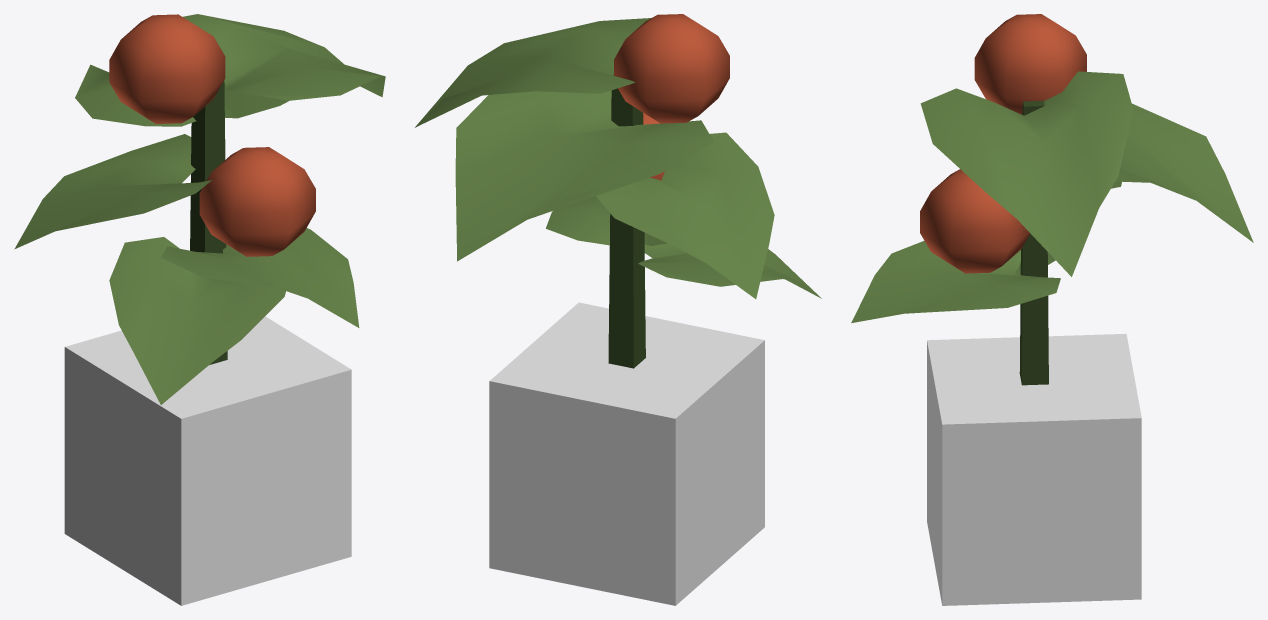
Rendered from plant3.fbx.
The picture shows the model from 3 angles, left to right: view 1: azimuth 30°, elevation 25°; view 2: azimuth 150°, elevation 25°; view 3: azimuth 270°, elevation 25°; orthographic projection. The views are drawn at different scales.
Parts seen in each view (by area): view 1: plant.003, plant3; view 2: plant.003, plant3; view 3: plant.003, plant3.
Part boxes in pixels (x1,y1,x2,y2): plant.003: (14,14,385,404); plant3: (64,316,351,605); plant.003: (415,14,821,368); plant3: (489,302,764,605); plant.003: (851,14,1253,385); plant3: (927,333,1141,605).
Size of the model in its own units: 81.44 by 118 by 82.54.
